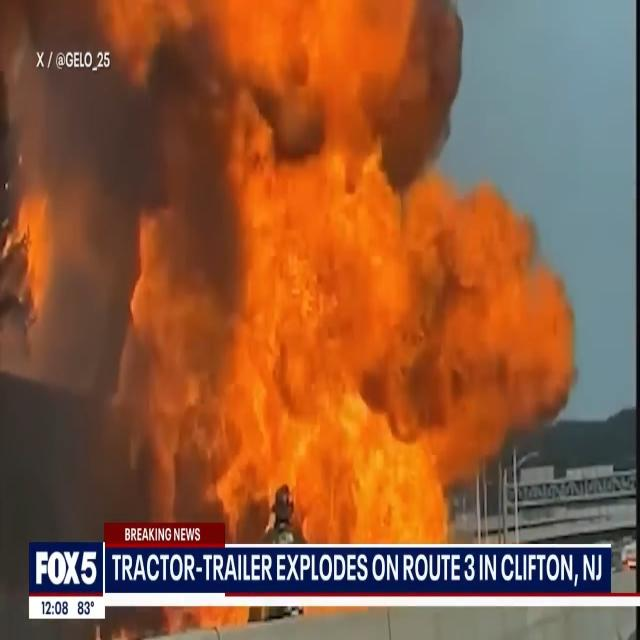fire: (53, 0, 559, 495)
